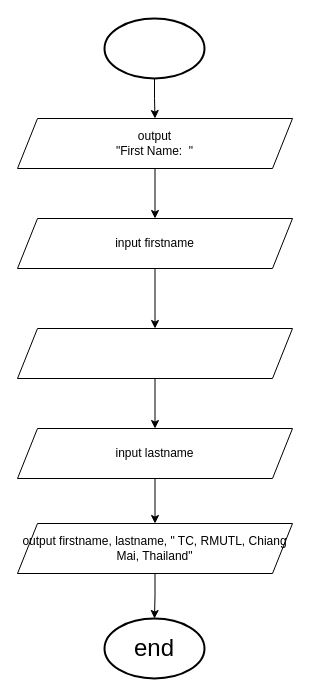
The diagram is 310 pixels wide and 696 high, and some of its shapes have lost their labels. Each missing label, with the centre of its shape:
output "Last Name: ": point 154,353
start: point 154,48
